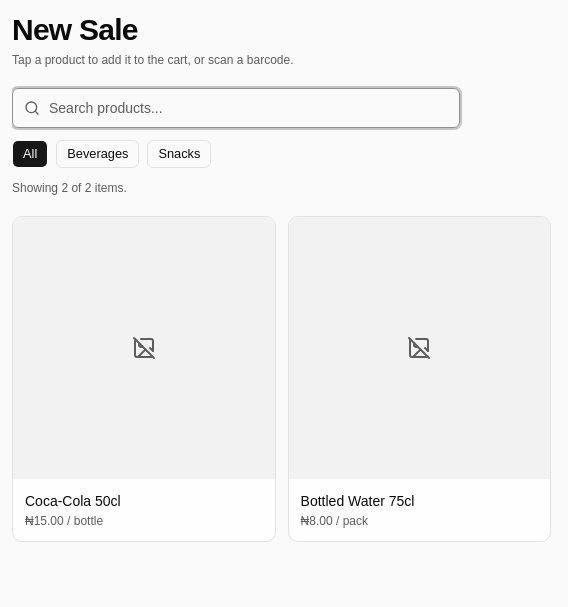
Test: NewSalePage › falls back to a text search when the barcode is not found
The image size is (568, 607).
Type "1234567890" into the search field named "Search products or scan a barcode" at (236, 108), box [13,88,459,128]
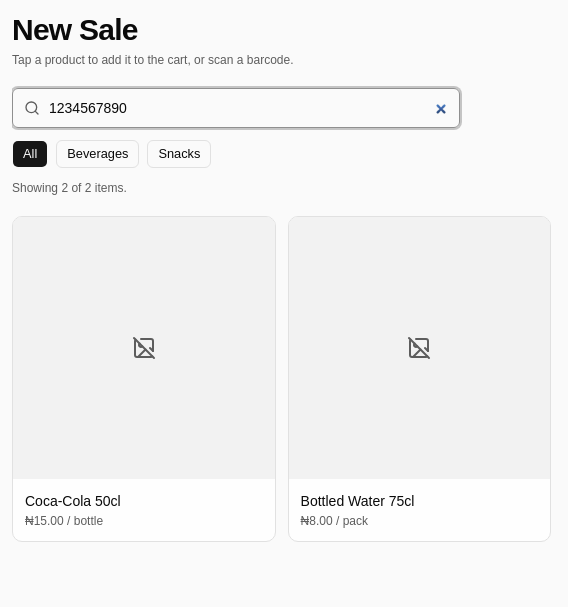
Press Enter
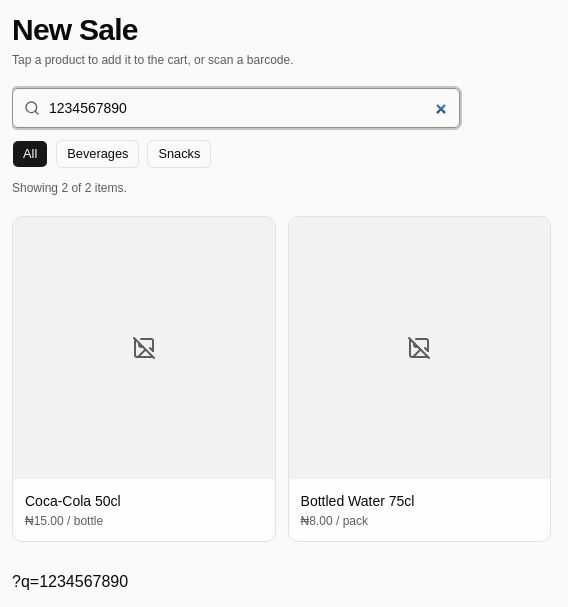
Expected: the text with test id "location-search" shows "q=1234567890", [12,573,128,590]
